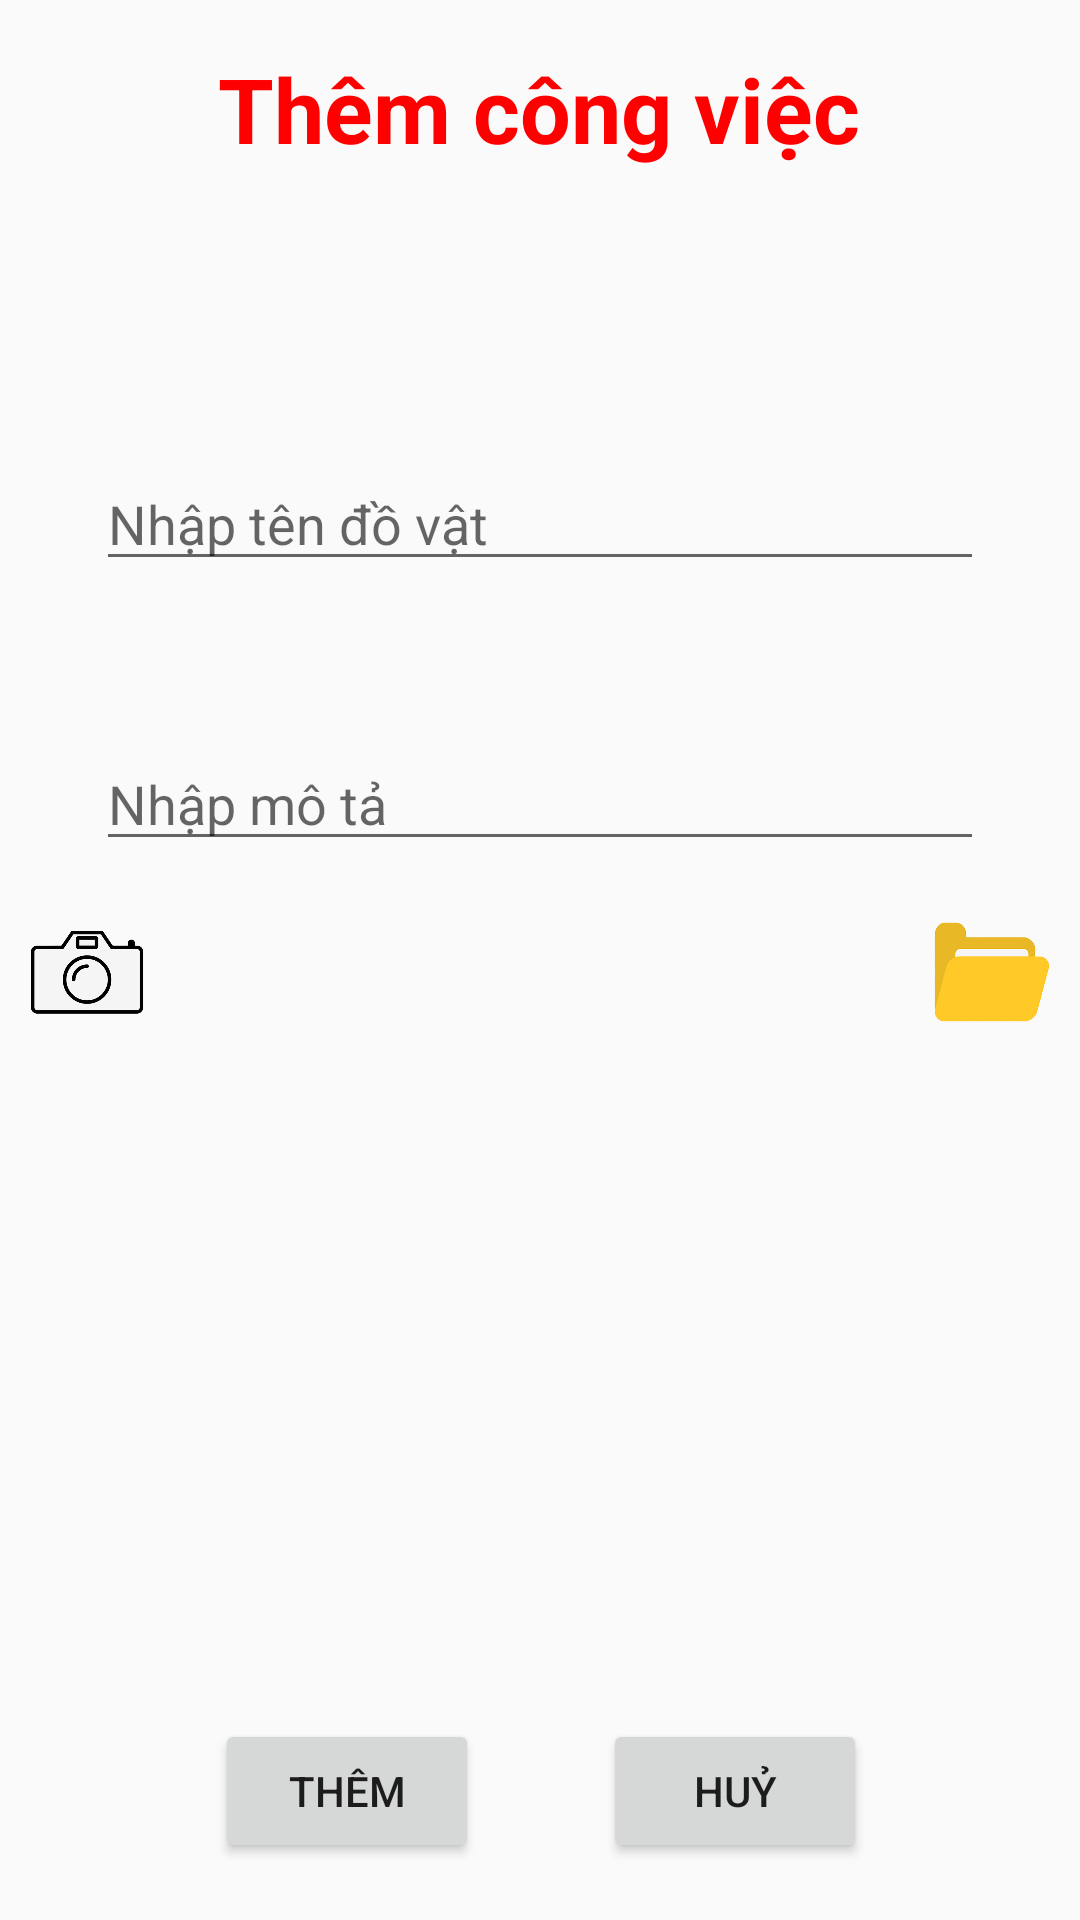

Icons on this 1080*1920 Android screen, each with the point to tap as point (x, y):
camera: point (87, 972)
folder: point (992, 972)
